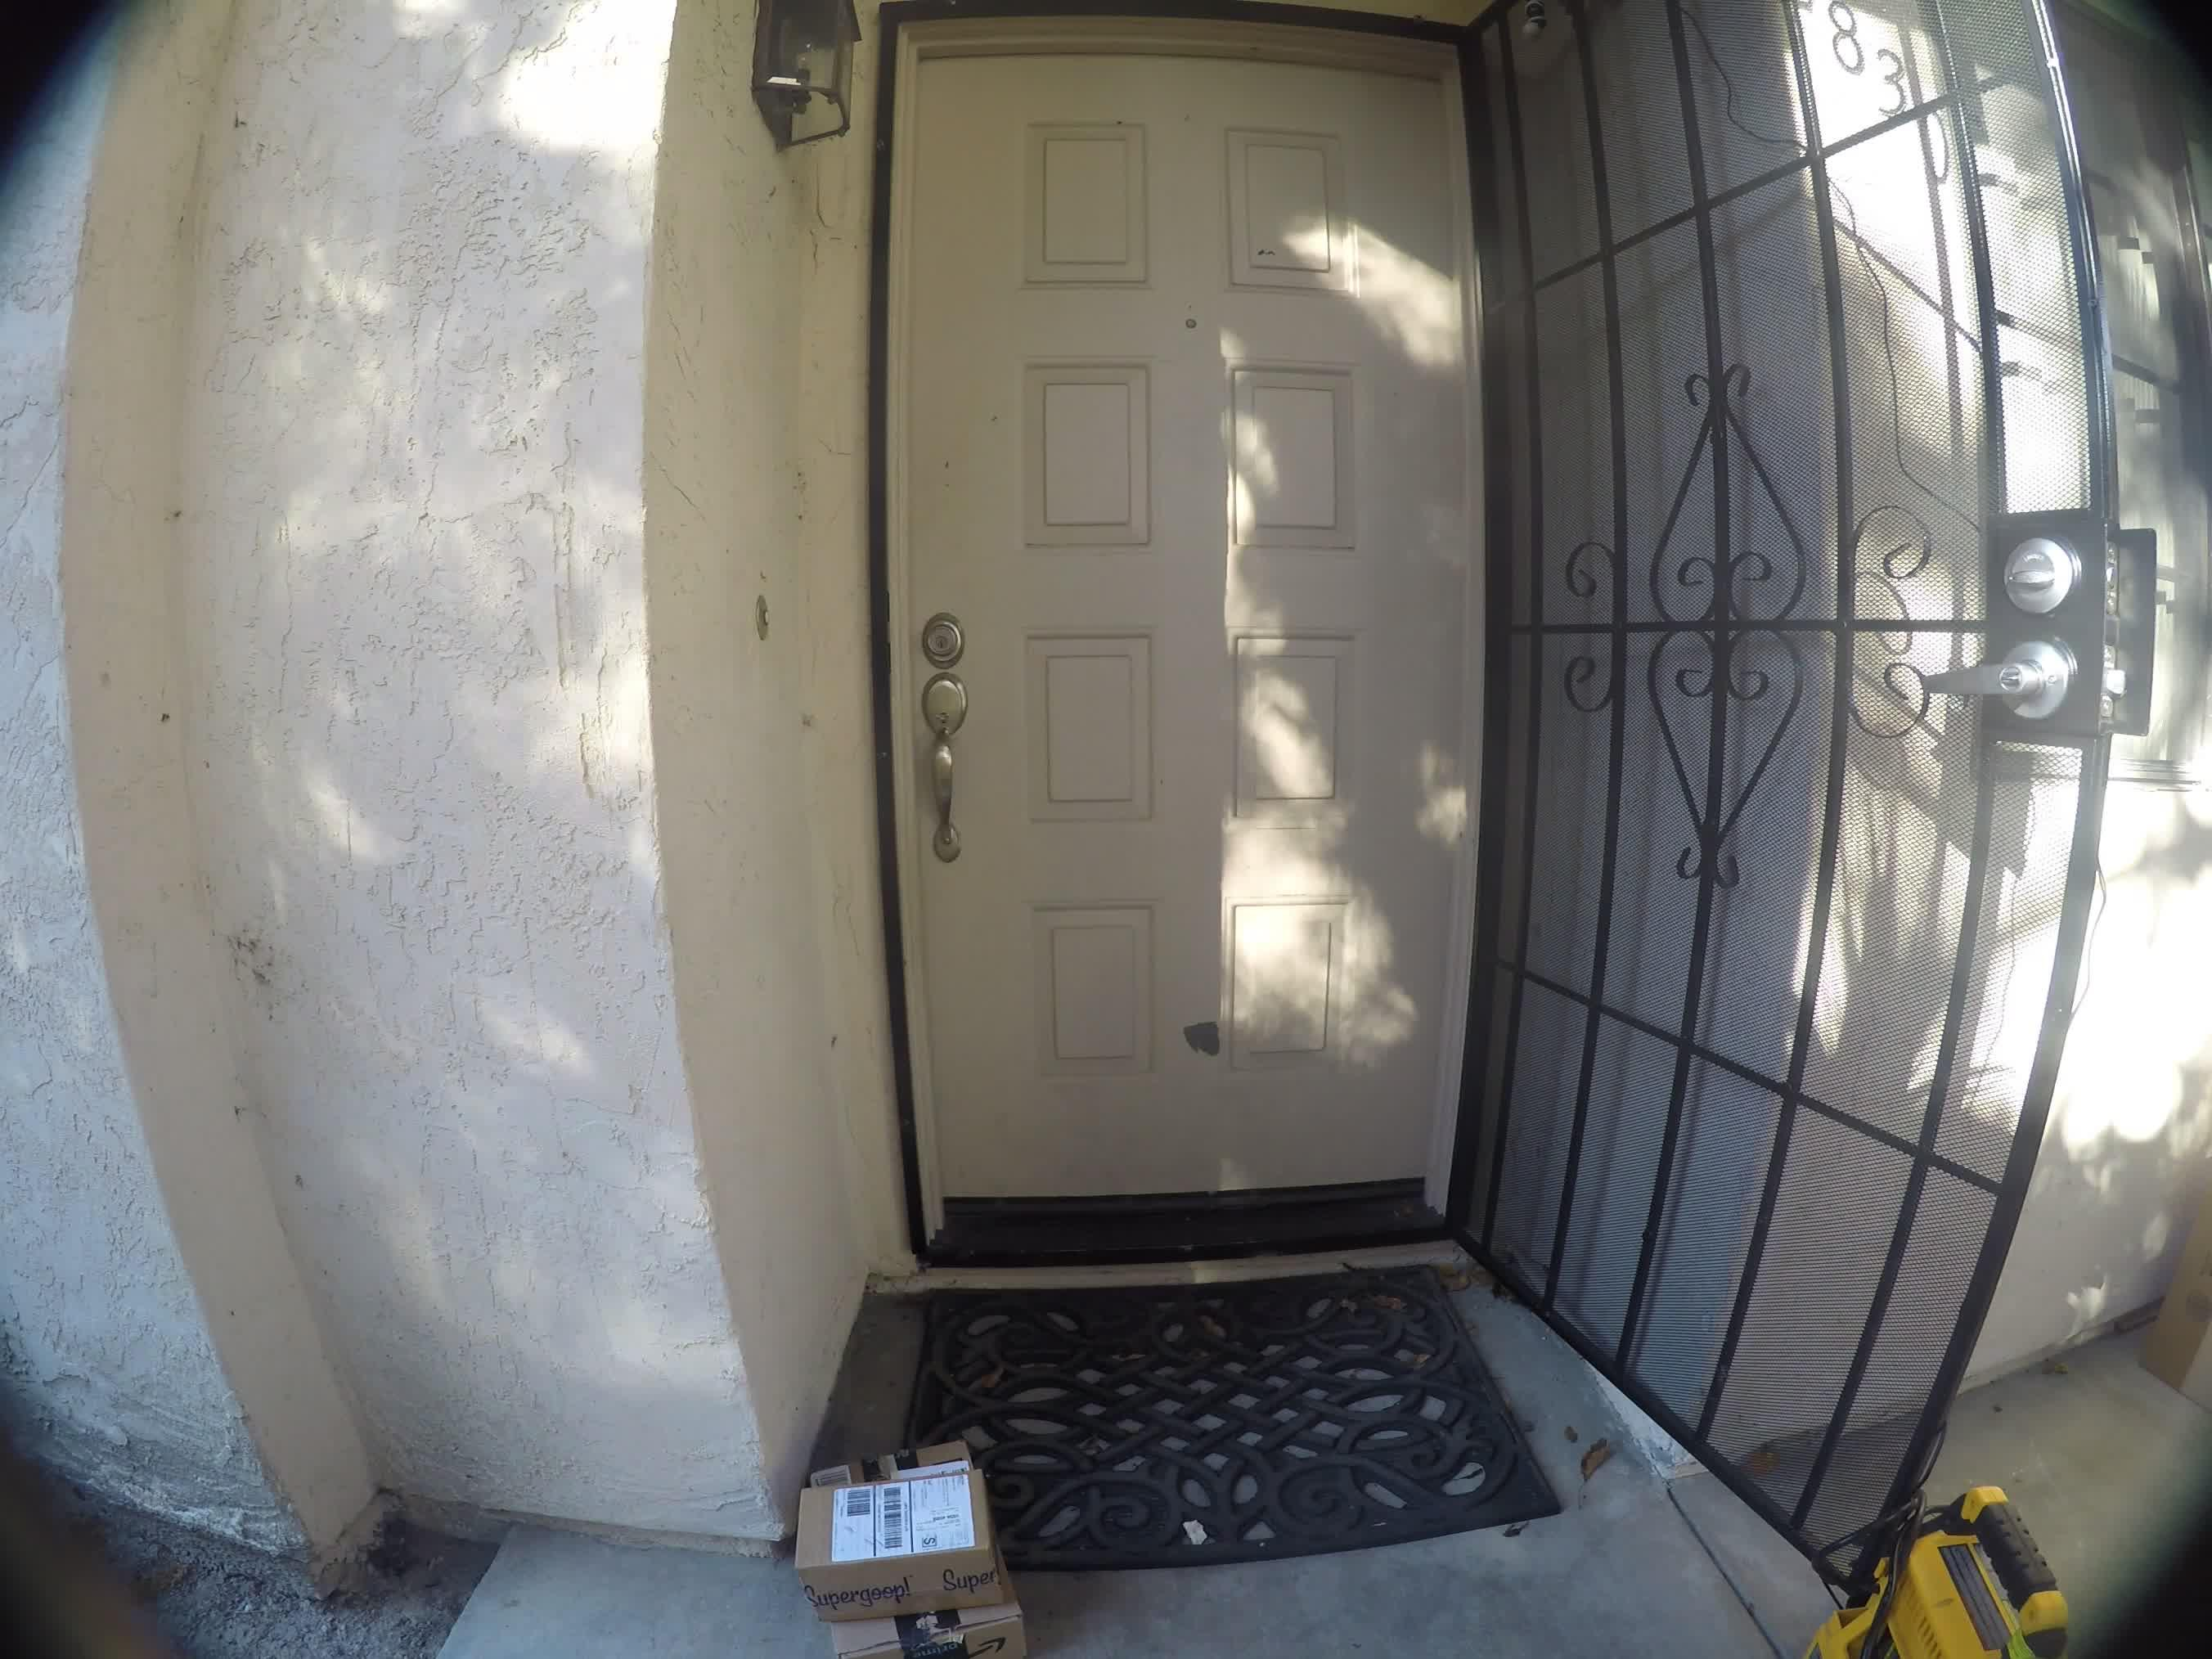box: (784, 1455, 1008, 1607), (794, 1605, 1054, 1652)
